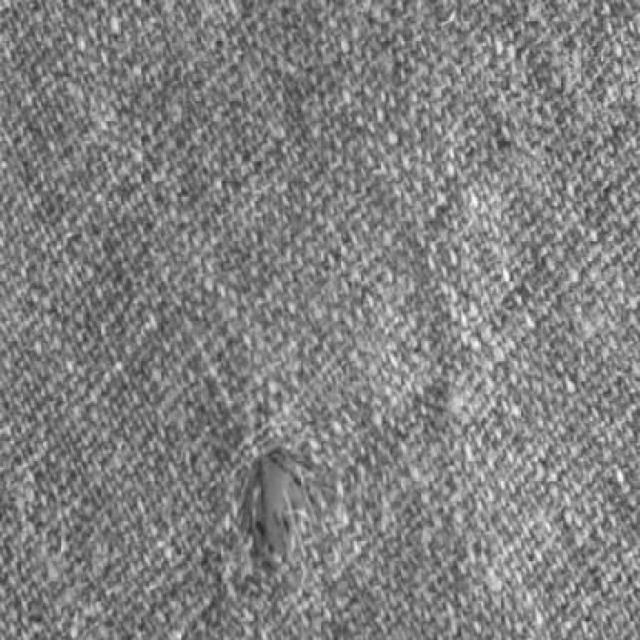other: (122, 375, 416, 635)
